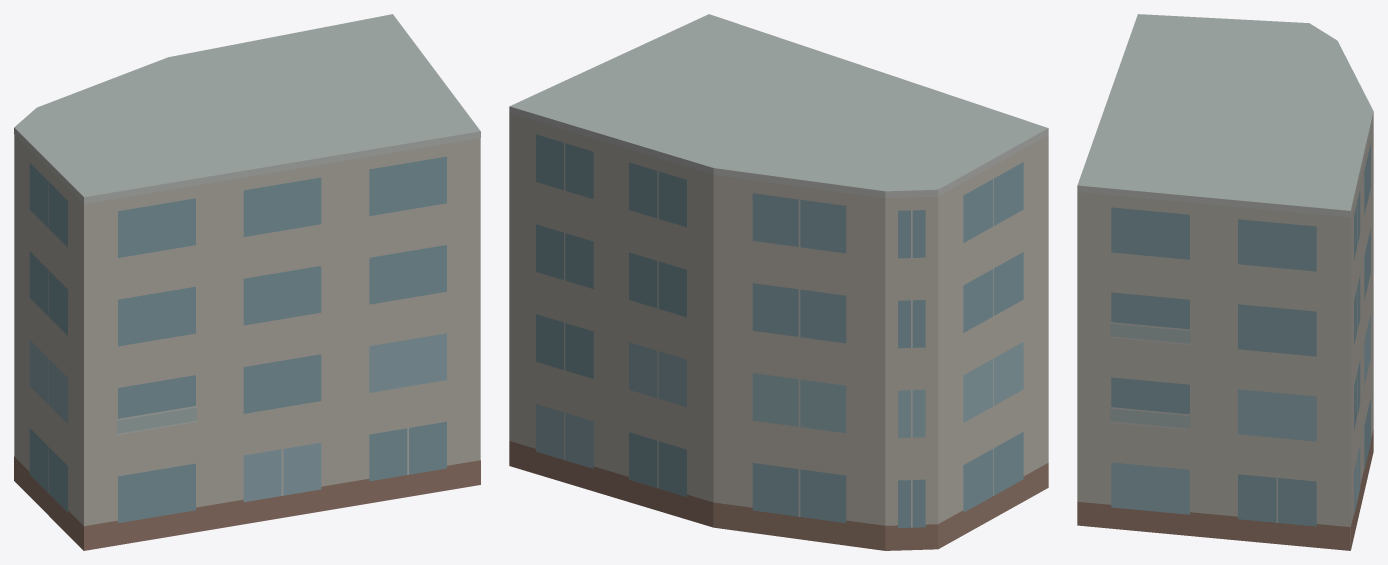
The model's file is survey-upis-32642910.glb.
The picture shows the model from 3 angles, left to right: view 1: azimuth 30°, elevation 25°; view 2: azimuth 150°, elevation 25°; view 3: azimuth 270°, elevation 25°; orthographic projection. The views are drawn at different scales.
Parts seen in each view (by area): view 1: survey-upis-32642910.tmp; view 2: survey-upis-32642910.tmp; view 3: survey-upis-32642910.tmp.
Part boxes in pixels (<box>): survey-upis-32642910.tmp: <box>14,14,480,550</box>; survey-upis-32642910.tmp: <box>509,14,1048,550</box>; survey-upis-32642910.tmp: <box>1077,14,1373,550</box>.
Bounding box in the file's own units: 15.91 × 12.8 × 10.12.
